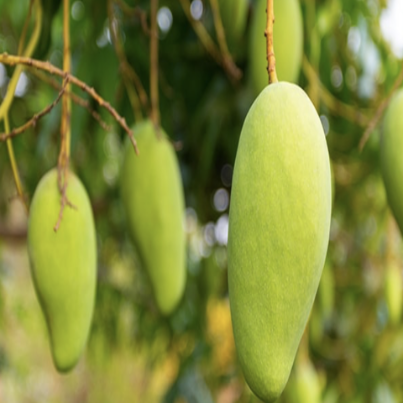mango: (211, 72, 350, 402), (111, 113, 195, 329), (19, 161, 100, 378)
